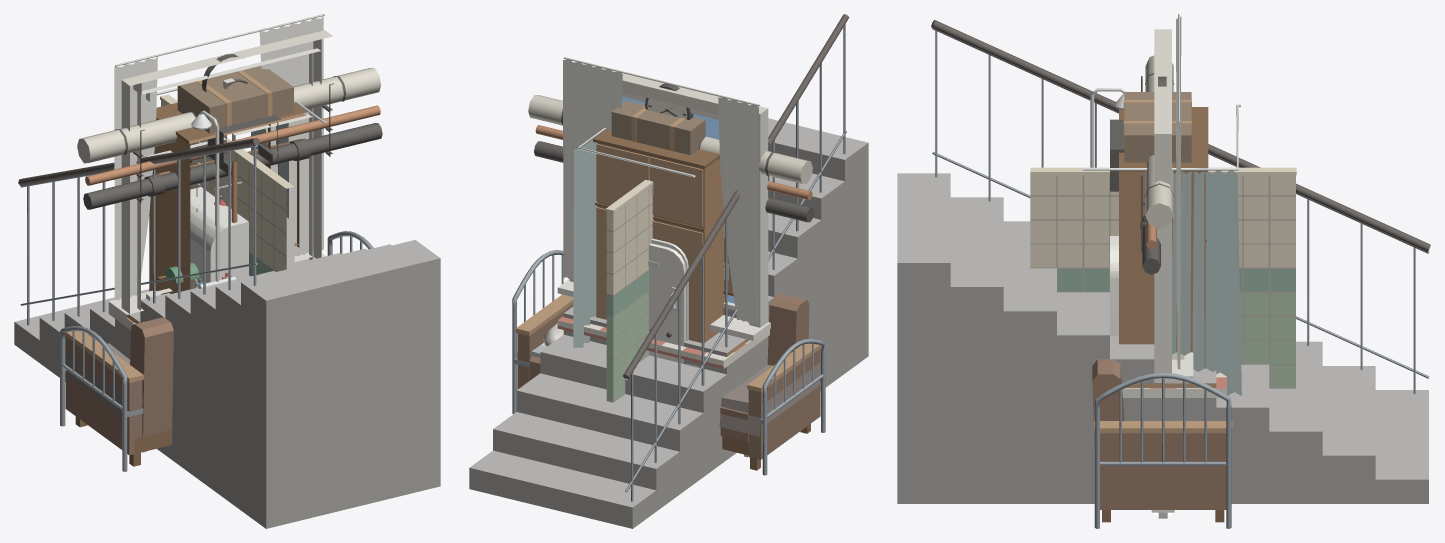
File: obshaga_props.glb
3 renders of one model, left to right at view 1: azimuth 30°, elevation 25°; view 2: azimuth 150°, elevation 25°; view 3: azimuth 270°, elevation 25°, orthographic. The views are drawn at different scales.
Visible parts, largest first — view 1: p_obsh_stair_flight, p_obsh_window, p_obsh_pipes, p_obsh_wardrobe, p_obsh_sofa, p_obsh_partition, p_obsh_fridge, p_obsh_bed, p_obsh_shower, p_obsh_toilet, p_obsh_noticeboard; view 2: p_obsh_stair_flight, p_obsh_window, p_obsh_wardrobe, p_obsh_sofa, p_obsh_partition, p_obsh_bed, p_obsh_shower, p_obsh_pipes, p_obsh_fridge, p_obsh_table, p_obsh_clock; view 3: p_obsh_stair_flight, p_obsh_partition, p_obsh_shower, p_obsh_sofa, p_obsh_wardrobe, p_obsh_window, p_obsh_bed, p_obsh_pipes, p_obsh_table, p_obsh_fridge, p_obsh_toilet.
Part boxes in pixels (<box>): p_obsh_stair_flight: <box>14,137,440,528</box>; p_obsh_window: <box>108,14,332,320</box>; p_obsh_pipes: <box>77,68,382,209</box>; p_obsh_wardrobe: <box>149,66,307,294</box>; p_obsh_sofa: <box>65,317,173,466</box>; p_obsh_partition: <box>160,94,294,276</box>; p_obsh_fridge: <box>190,187,294,289</box>; p_obsh_bed: <box>60,231,373,471</box>; p_obsh_shower: <box>157,88,326,288</box>; p_obsh_toilet: <box>207,114,281,222</box>; p_obsh_noticeboard: <box>155,139,299,280</box>; p_obsh_stair_flight: <box>469,14,868,528</box>; p_obsh_window: <box>557,57,770,340</box>; p_obsh_wardrobe: <box>593,100,725,342</box>; p_obsh_sofa: <box>515,293,821,470</box>; p_obsh_partition: <box>605,180,653,402</box>; p_obsh_bed: <box>512,250,825,475</box>; p_obsh_shower: <box>573,128,695,347</box>; p_obsh_pipes: <box>528,95,814,222</box>; p_obsh_fridge: <box>648,238,688,363</box>; p_obsh_table: <box>557,316,769,368</box>; p_obsh_clock: <box>645,83,693,119</box>; p_obsh_stair_flight: <box>897,20,1430,503</box>; p_obsh_partition: <box>1030,167,1296,388</box>; p_obsh_shower: <box>1083,88,1241,395</box>; p_obsh_sofa: <box>1092,359,1232,522</box>; p_obsh_wardrobe: <box>1119,92,1208,368</box>; p_obsh_window: <box>1154,14,1193,382</box>; p_obsh_bed: <box>1094,372,1231,528</box>; p_obsh_pipes: <box>1140,55,1174,274</box>; p_obsh_table: <box>1122,372,1226,397</box>; p_obsh_fridge: <box>1110,236,1118,336</box>; p_obsh_toilet: <box>1110,119,1124,191</box>.
Bounding box in the file's own units: 2 × 2.82 × 3.01.
